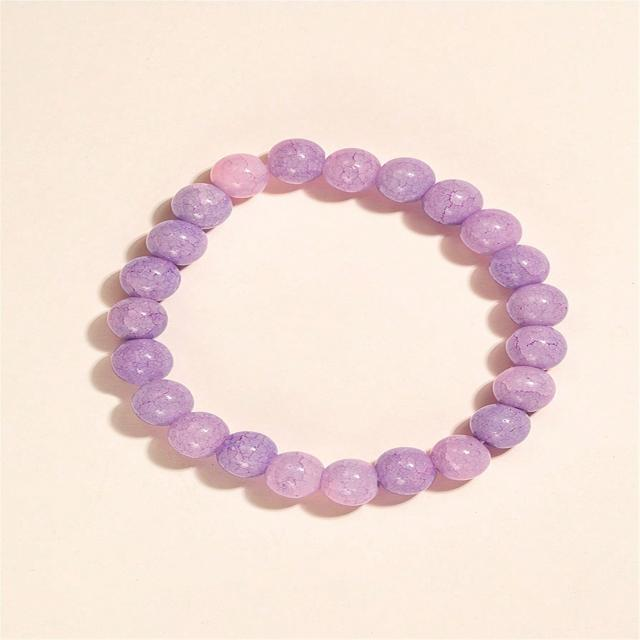bracelet: (54, 80, 640, 585)
